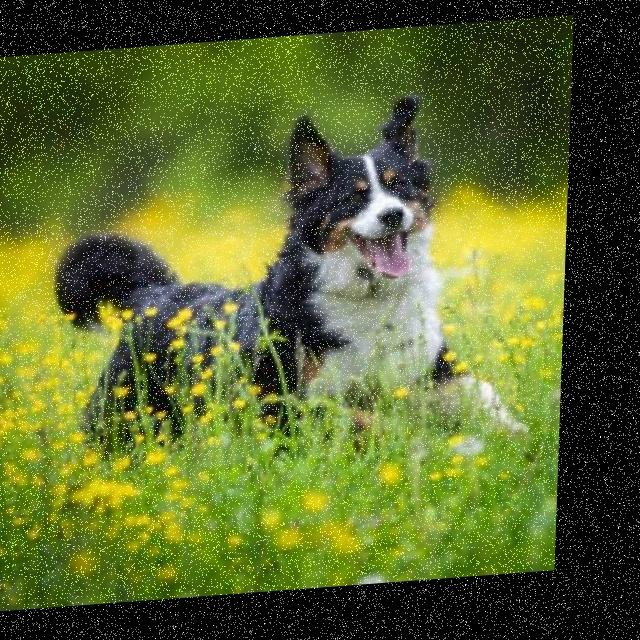dog: (252, 81, 458, 326)
